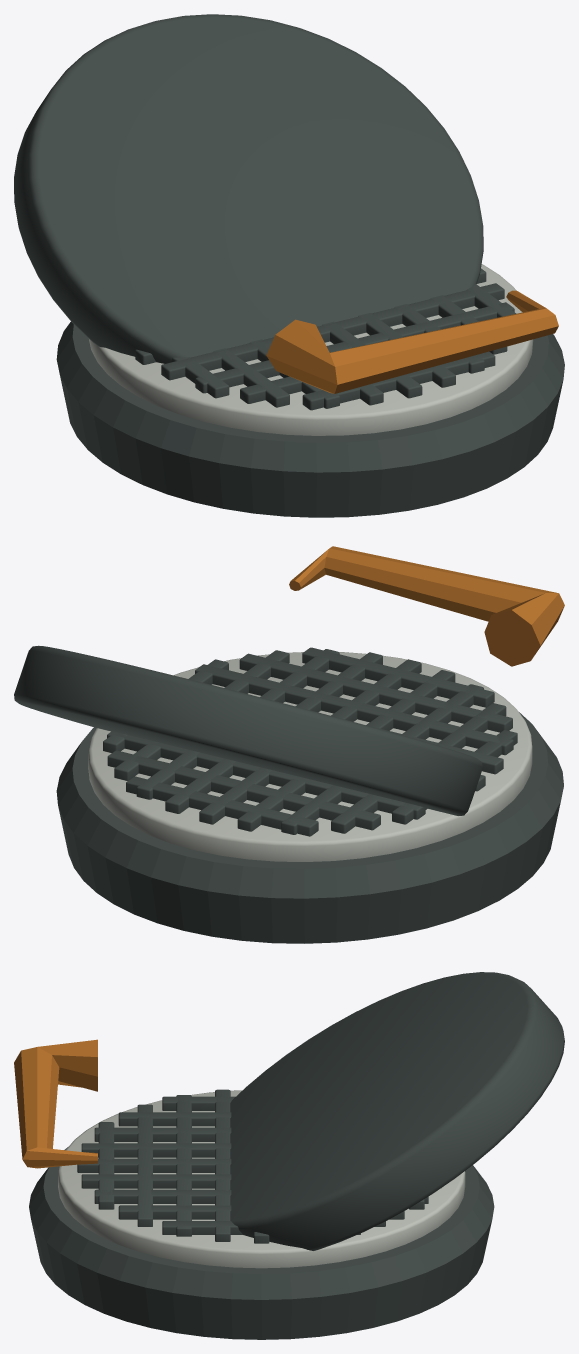
Rendered from waffle-iron.glb.
3 renders of one model, top to bottom at view 1: azimuth 30°, elevation 25°; view 2: azimuth 150°, elevation 25°; view 3: azimuth 270°, elevation 25°, orthographic. The views are drawn at different scales.
Visible parts, largest first — view 1: waffle-iron; view 2: waffle-iron; view 3: waffle-iron.
Boxes of the visible parts, left/top/right/bottom form: waffle-iron: left=14, top=14, right=564, bottom=517; waffle-iron: left=14, top=546, right=564, bottom=943; waffle-iron: left=14, top=972, right=564, bottom=1339.
Bounding box in the file's own units: 0.28 × 0.19 × 0.35.
Materials: 3 (1 with a texture image).
